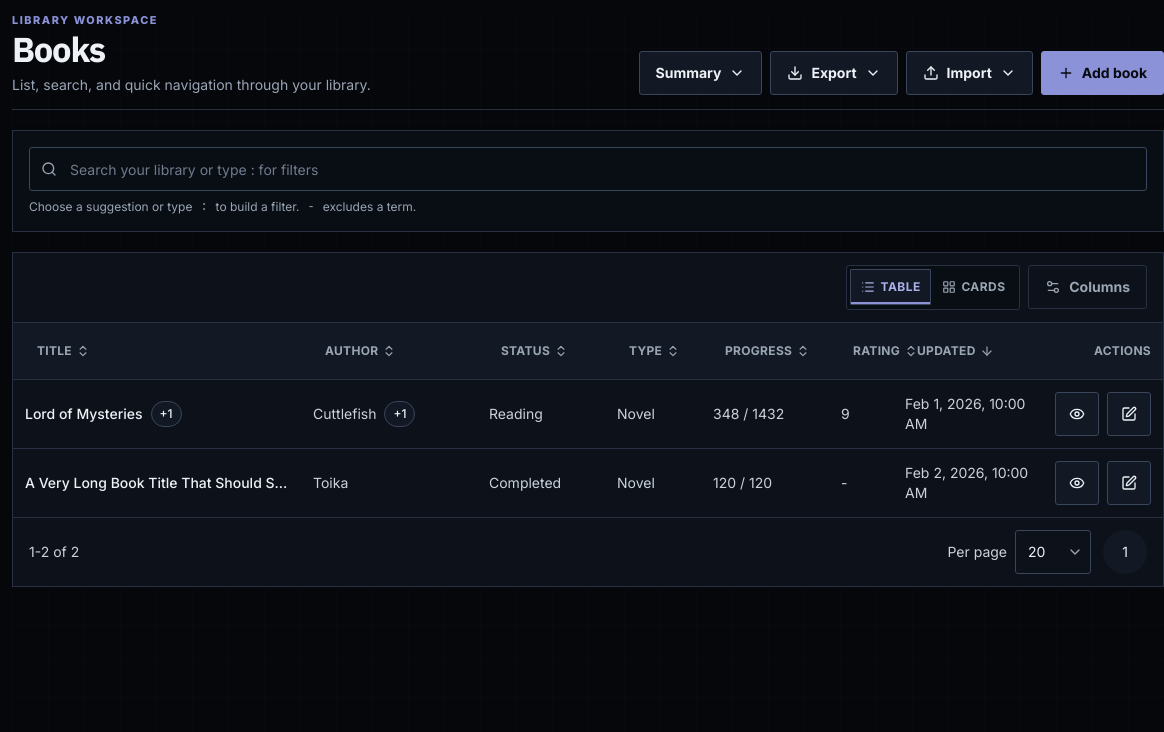
Test: BooksPage › inserts frequency-ranked text suggestions as quoted filter values
The image size is (1164, 732).
expect the text "Lord of Mysteries" is shown: met, box [25,404,142,424]
Type "status:comp" into the dropdown named "search books" at (588, 169), box [29,147,1147,191]
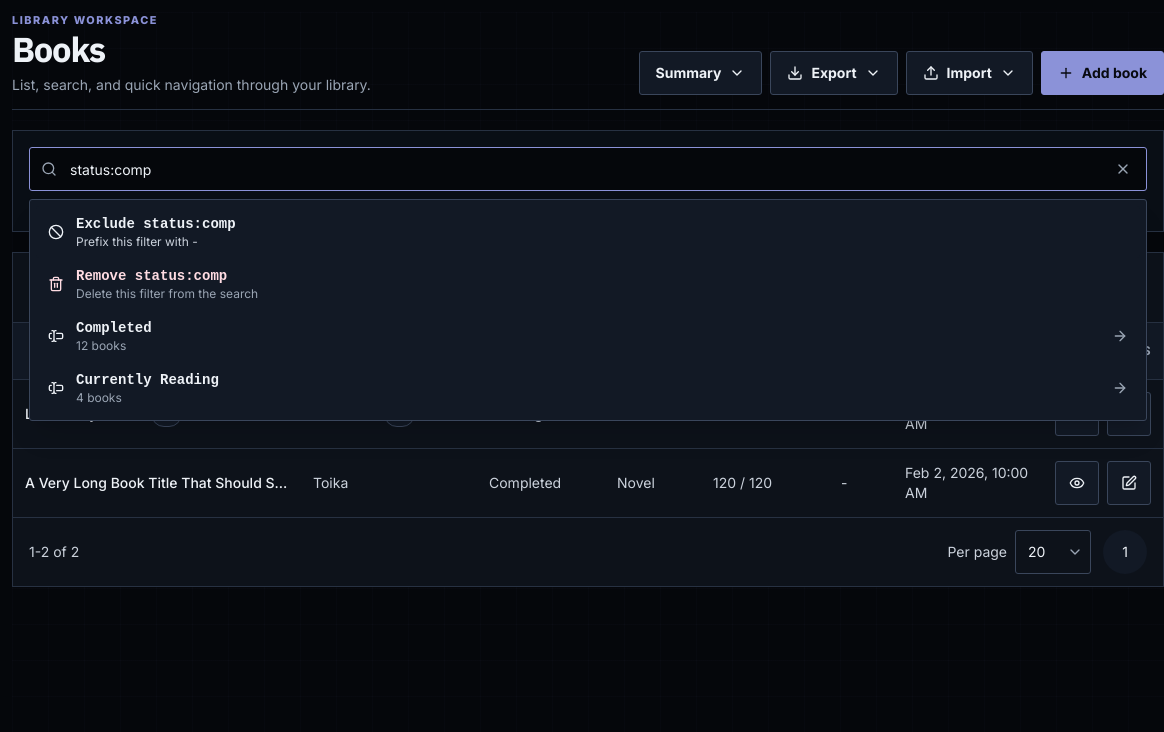
Click the option "Completed 12 books" at (114, 328), box [36,310,1140,362]
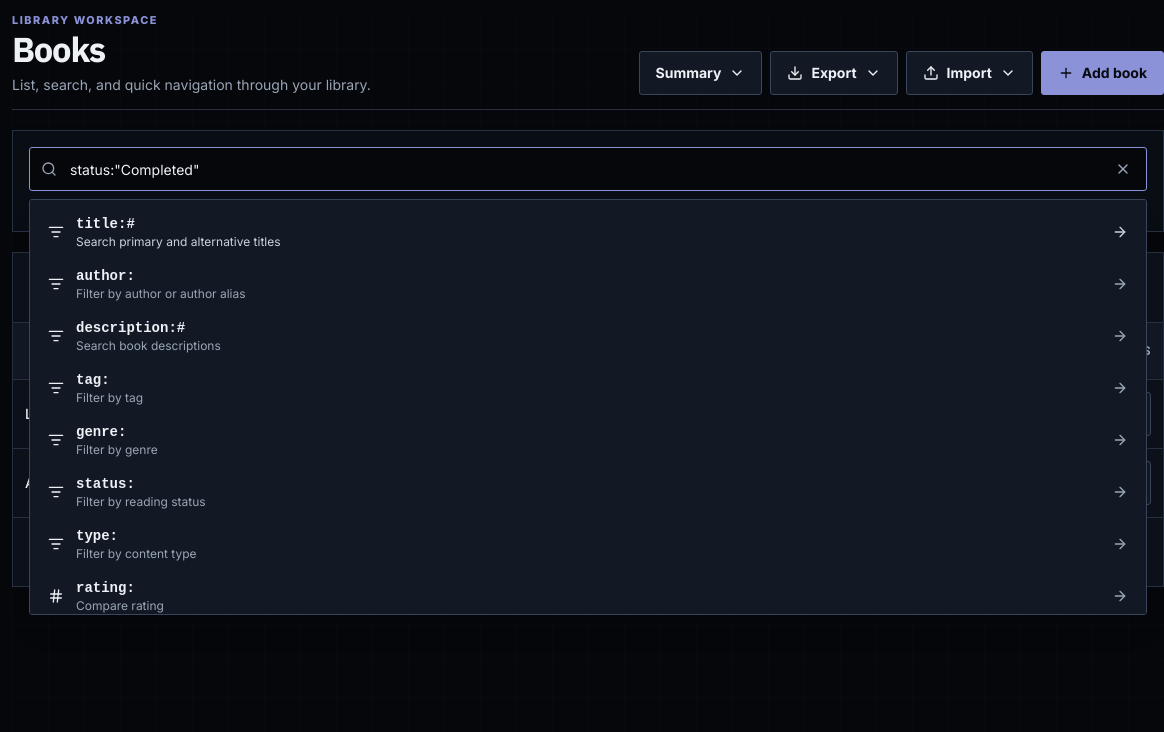
expect the dropdown named "search books" holds "status:\"Completed\" ": met, box [29,147,1147,191]
expect the option "title:# Search primary and alternative titles" is shown: met, box [36,206,1140,258]
